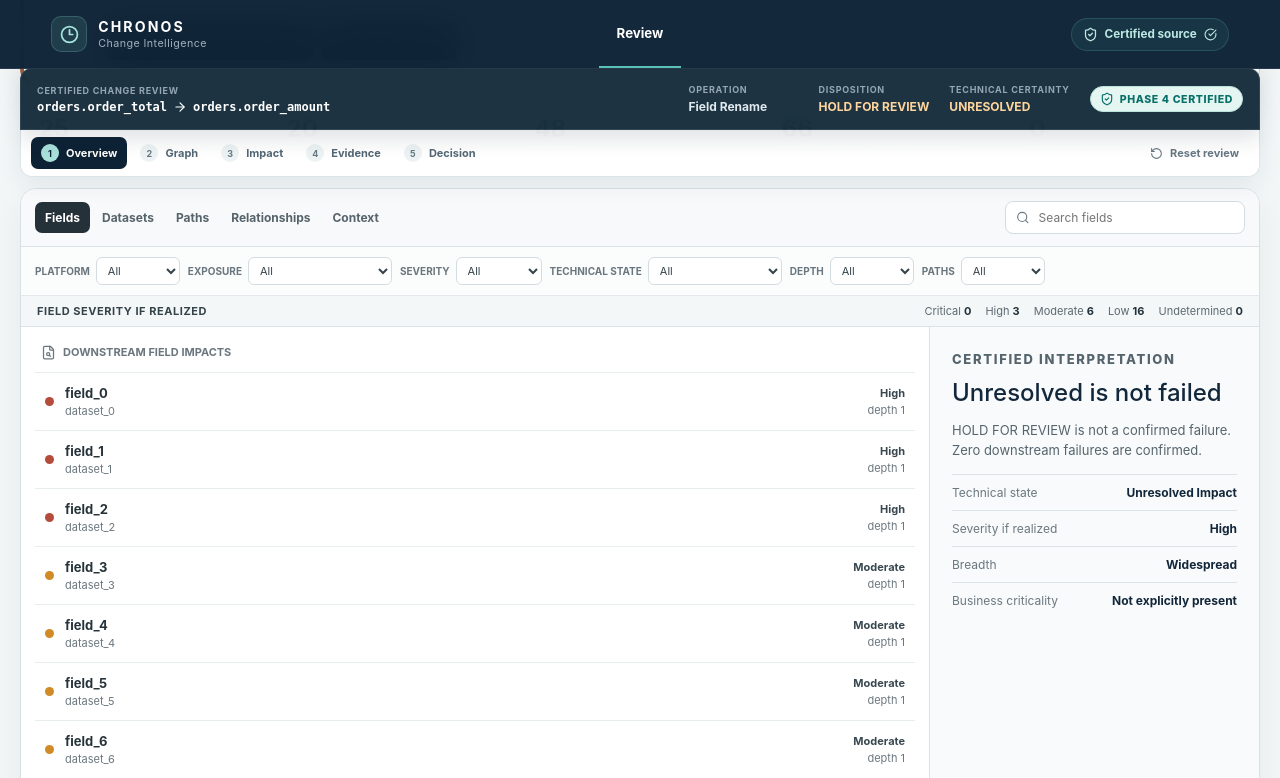
certified change review workflow › synchronizes a field selection with impact detail
(page scrolled)
Step 1. Click the button "field_0 dataset_0 High depth 1" → point(86, 393), box [35,372,915,430]
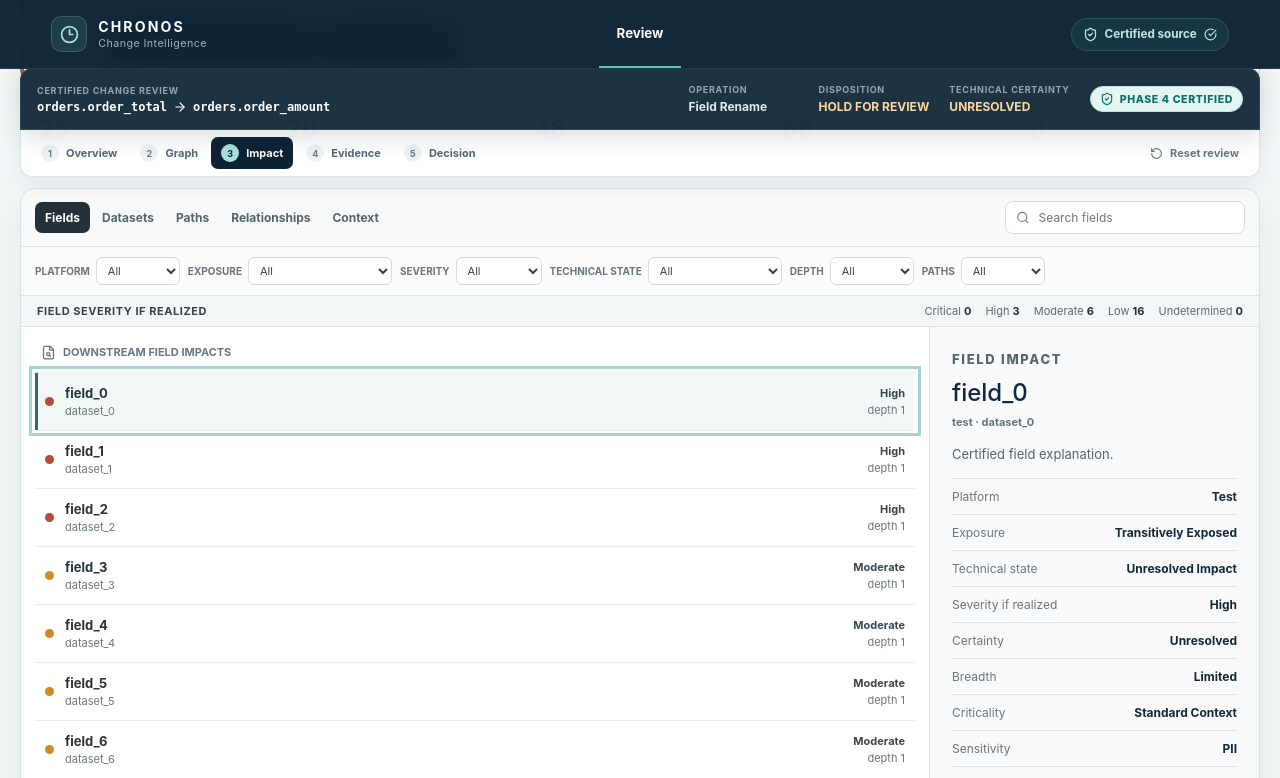
Now the text "Field impact" is shown, box [952,351,1062,367]
